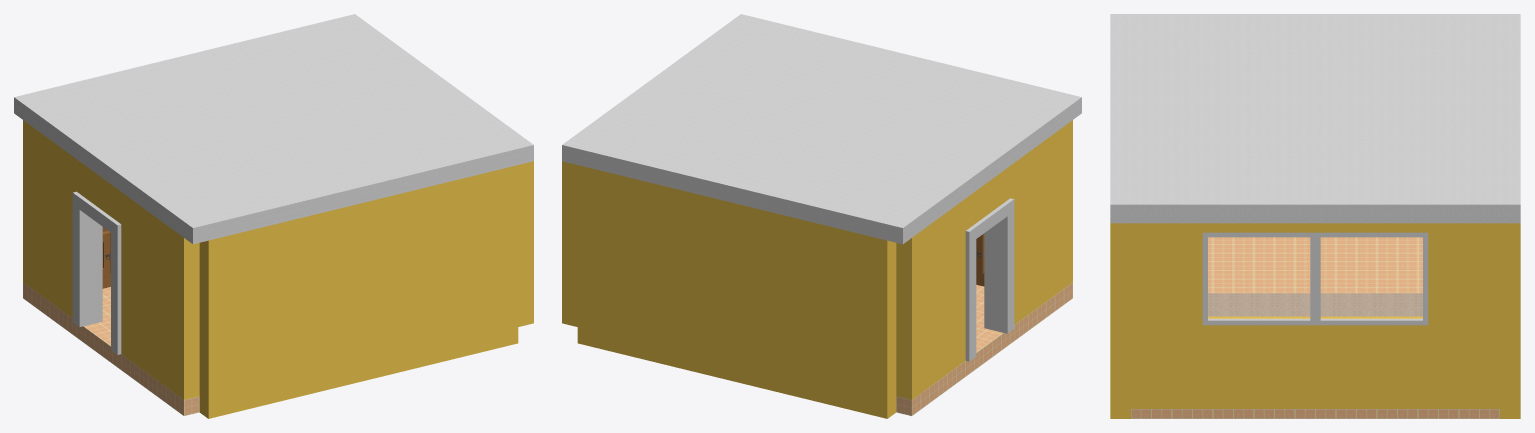
File: Kitchen-Main-Scene.FBX
The picture shows the model from 3 angles, left to right: view 1: azimuth 30°, elevation 25°; view 2: azimuth 150°, elevation 25°; view 3: azimuth 270°, elevation 25°; orthographic projection. The views are drawn at different scales.
Visible parts, largest first — view 1: wall_png, ceiling_png, paintwork_png, floor_png, cupboard_png; view 2: wall_png, ceiling_png, paintwork_png, floor_png; view 3: ceiling_png, wall_png, floor_png, paintwork_png, work_surface_png.
Boxes of the visible parts, x1,y1,x2,y2 form: wall_png: [23, 120, 533, 418]; ceiling_png: [14, 14, 533, 244]; paintwork_png: [72, 191, 121, 354]; floor_png: [23, 282, 199, 415]; cupboard_png: [102, 227, 110, 288]; wall_png: [562, 120, 1072, 418]; ceiling_png: [562, 14, 1081, 244]; paintwork_png: [965, 198, 1014, 361]; floor_png: [896, 282, 1072, 415]; ceiling_png: [1110, 14, 1520, 223]; wall_png: [1110, 223, 1520, 418]; floor_png: [1131, 237, 1499, 418]; paintwork_png: [1202, 232, 1428, 325]; work_surface_png: [1208, 293, 1422, 316].
Bounding box in the file's own units: 356 × 192 × 320.
7 materials, 7 textured.
